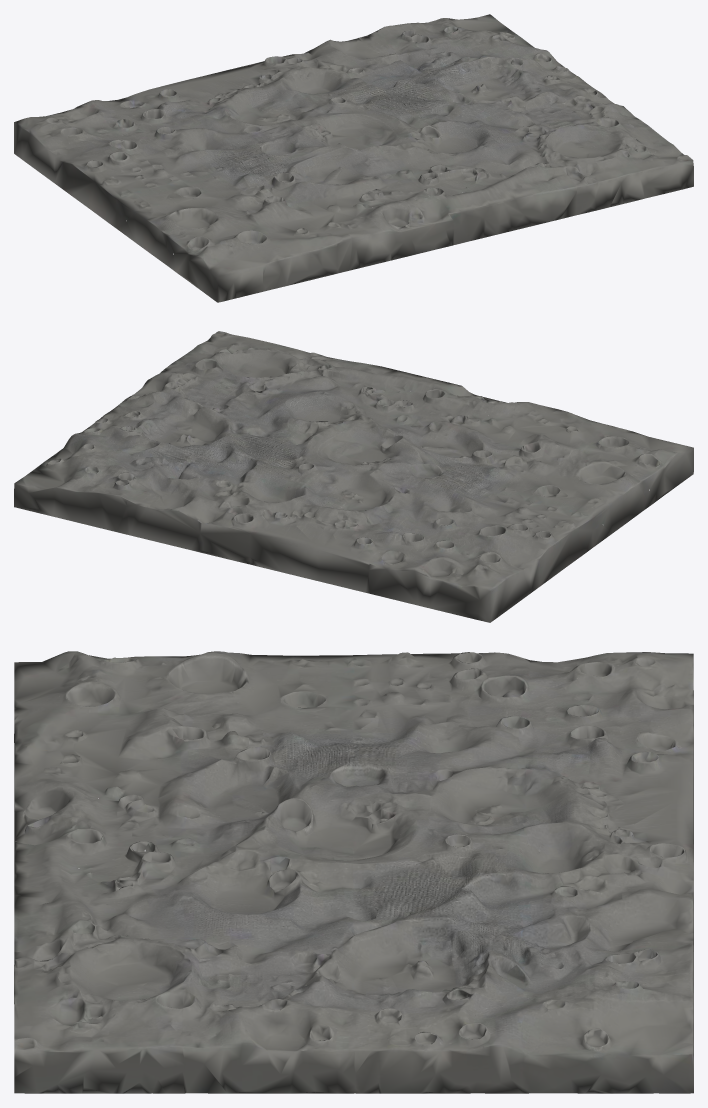
The model's file is superficie_lunar.glb.
3 renders of one model, top to bottom at view 1: azimuth 30°, elevation 25°; view 2: azimuth 150°, elevation 25°; view 3: azimuth 270°, elevation 25°, orthographic. The views are drawn at different scales.
Parts seen in each view (by area): view 1: tripo_node_b1db61ac-423b-4e24-8579-276bf419721c; view 2: tripo_node_b1db61ac-423b-4e24-8579-276bf419721c; view 3: tripo_node_b1db61ac-423b-4e24-8579-276bf419721c.
Part boxes in pixels (box(x1,y1,x2,y2)): tripo_node_b1db61ac-423b-4e24-8579-276bf419721c: box(14, 14, 693, 302); tripo_node_b1db61ac-423b-4e24-8579-276bf419721c: box(14, 331, 693, 622); tripo_node_b1db61ac-423b-4e24-8579-276bf419721c: box(14, 651, 693, 1093).
Bounding box in the file's own units: 0.9967 × 0.0926 × 0.7392.
1 material, 1 textured.
